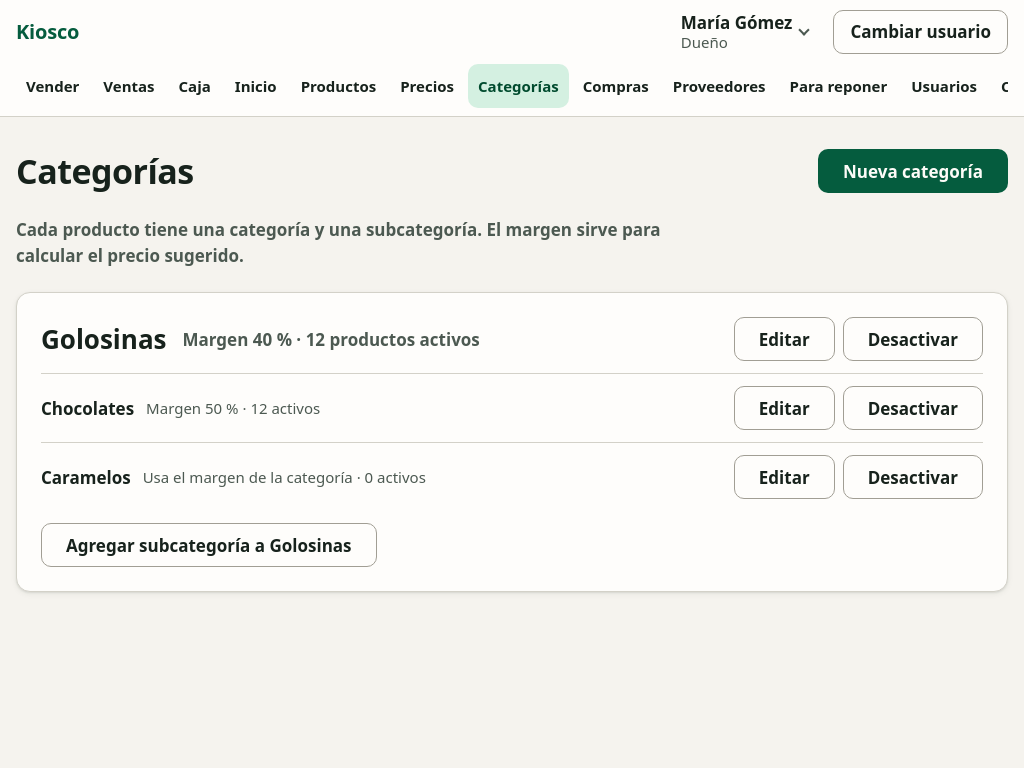
Test: Categorías › el dueño sí ve y edita los márgenes
This screenshot has width=1024, height=768.
Click the button with aria-label "Editar la categoría Golosinas" at (784, 339), box 734,317 -> 835,361
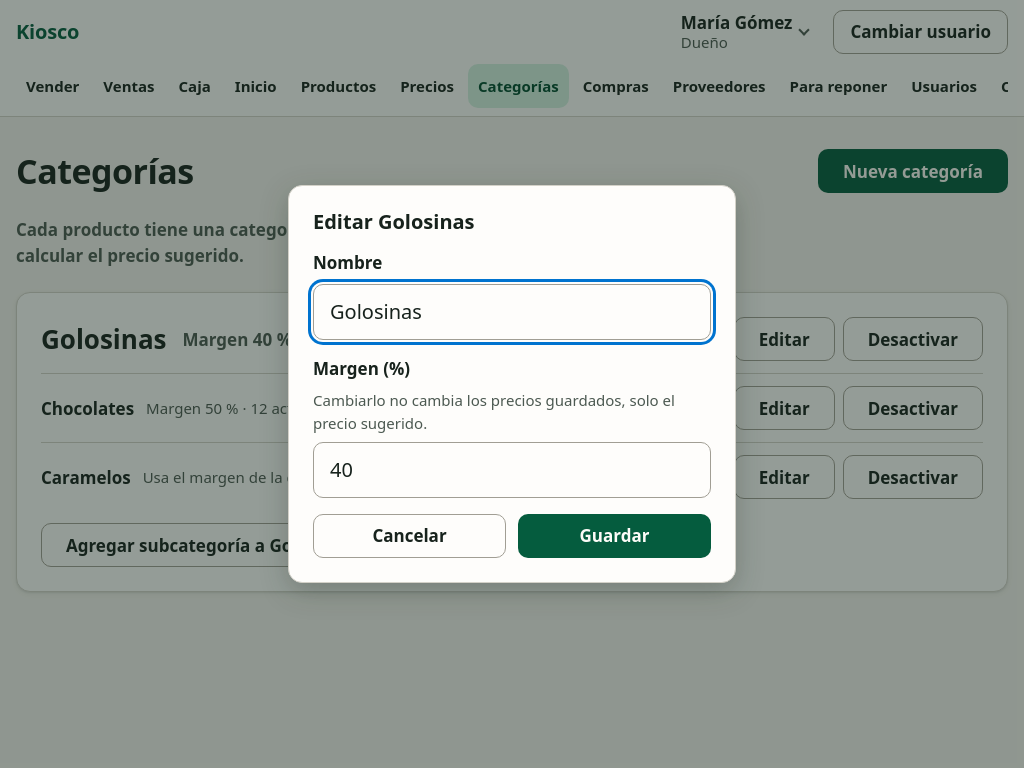
expect the field labelled "Margen (%)" holds "40": met, box 313,442 -> 711,498
